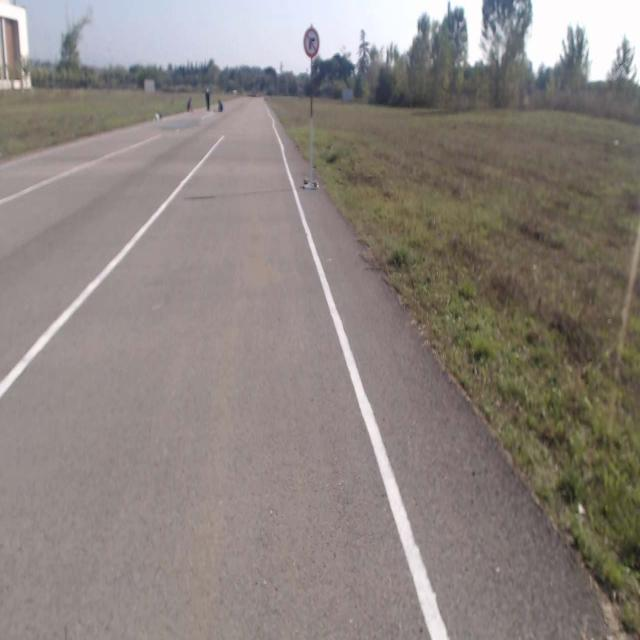sagadonulmez: (303, 28, 319, 58)
